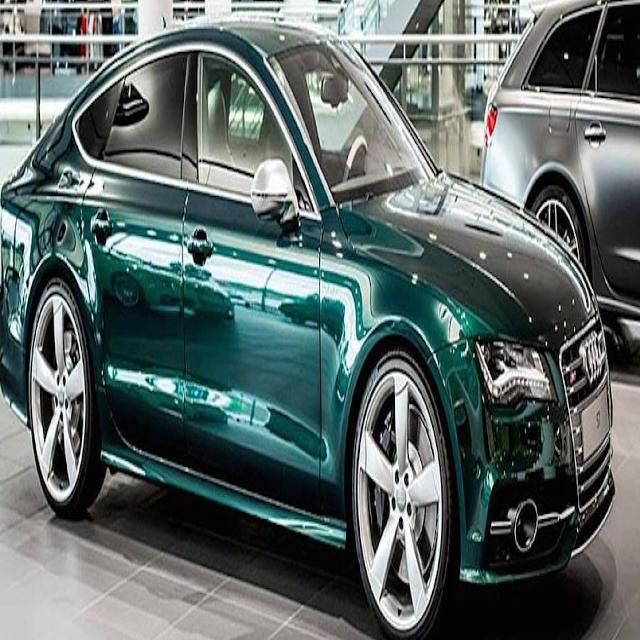green: (7, 0, 640, 639)
